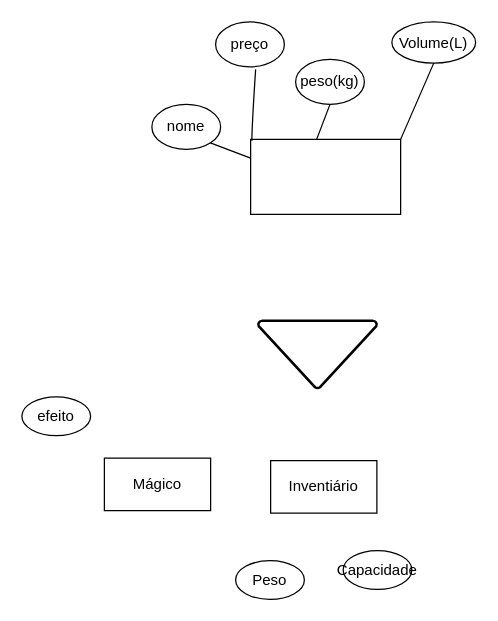
The diagram is 498 pixels wide and 621 high, and some of its shapes have lost their labels. Here are the shapes that lost their labels. From the top down, the centre of each, then its label:
the point at 325,176: Produtos
the point at 317,354: Tipo
